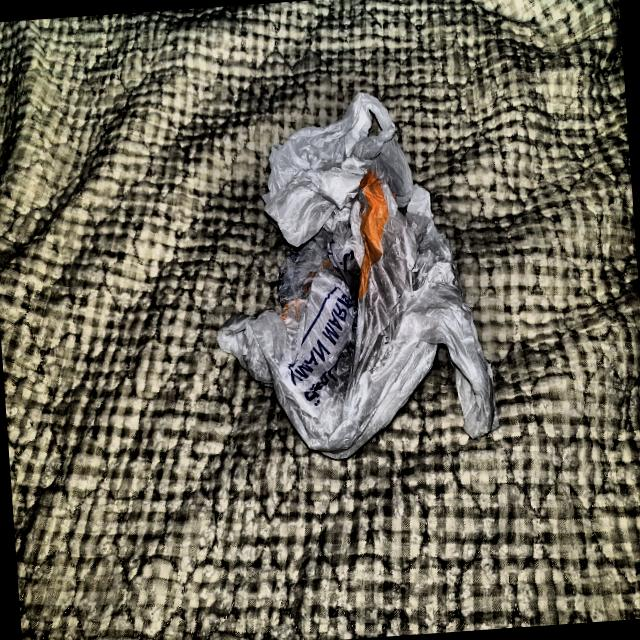plastic bag: (192, 77, 505, 474)
